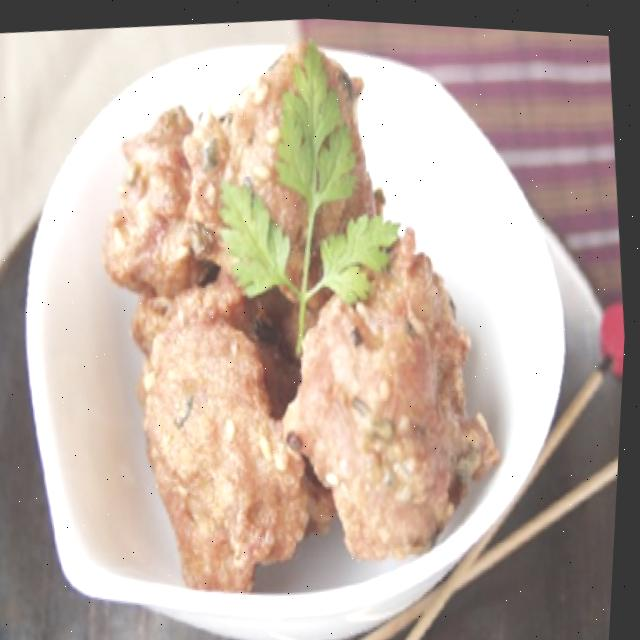鸡肉料理 含炸鸡: (60, 22, 549, 629)
